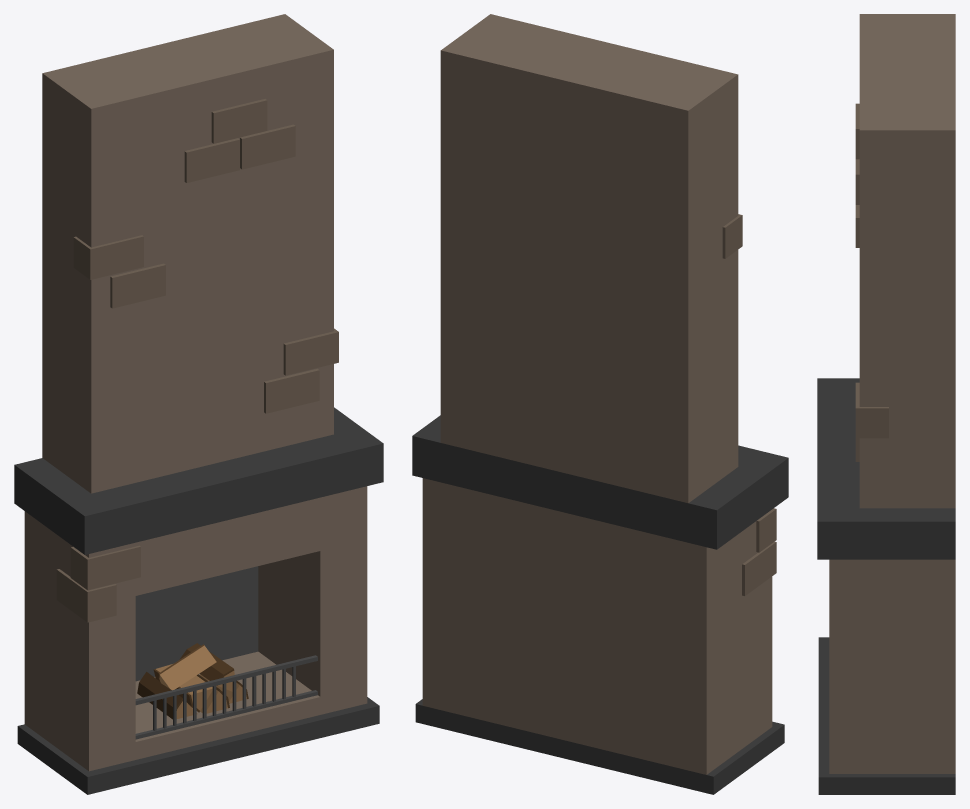
File: Fireplace_06.fbx
3 renders of one model, left to right at view 1: azimuth 30°, elevation 25°; view 2: azimuth 150°, elevation 25°; view 3: azimuth 270°, elevation 25°, orthographic. The views are drawn at different scales.
Visible parts, largest first — view 1: Fireplace_06; view 2: Fireplace_06; view 3: Fireplace_06.
Part boxes in pixels (<box>): Fireplace_06: <box>14,14,383,794</box>; Fireplace_06: <box>412,14,788,794</box>; Fireplace_06: <box>817,14,955,794</box>.
Size of the model in its own units: 134 by 285 by 54.69.
